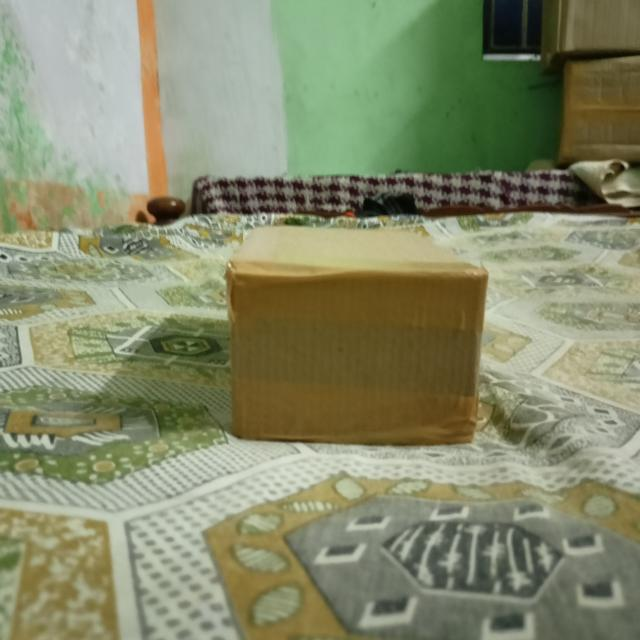box: (230, 269, 484, 443)
